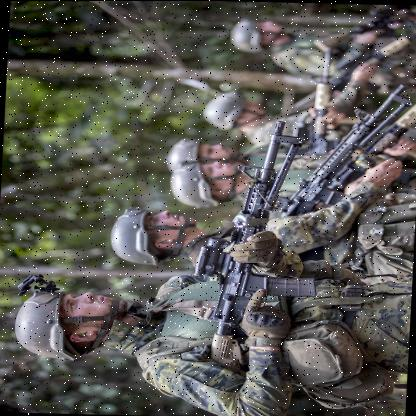rifle: (184, 114, 330, 368), (276, 81, 416, 219)
